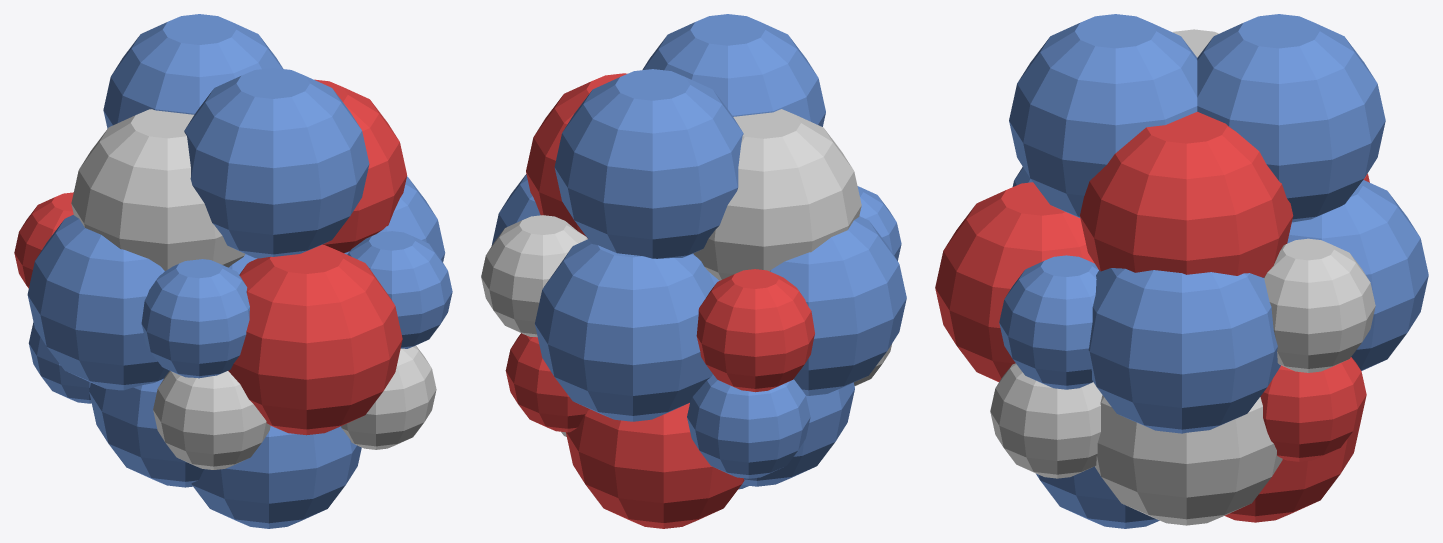
Rendered from Atom_2.fbx.
3 renders of one model, left to right at view 1: azimuth 30°, elevation 25°; view 2: azimuth 150°, elevation 25°; view 3: azimuth 270°, elevation 25°, orthographic. The views are drawn at different scales.
Visible parts, largest first — view 1: Atom_2; view 2: Atom_2; view 3: Atom_2.
Boxes of the visible parts, left/top/right/bottom form: Atom_2: left=14, top=14, right=452, bottom=528; Atom_2: left=481, top=14, right=906, bottom=528; Atom_2: left=935, top=14, right=1428, bottom=528.
Bounding box in the file's own units: 25.06 × 26.82 × 24.98.
